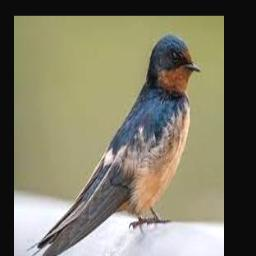Swallow: (27, 33, 199, 256)
